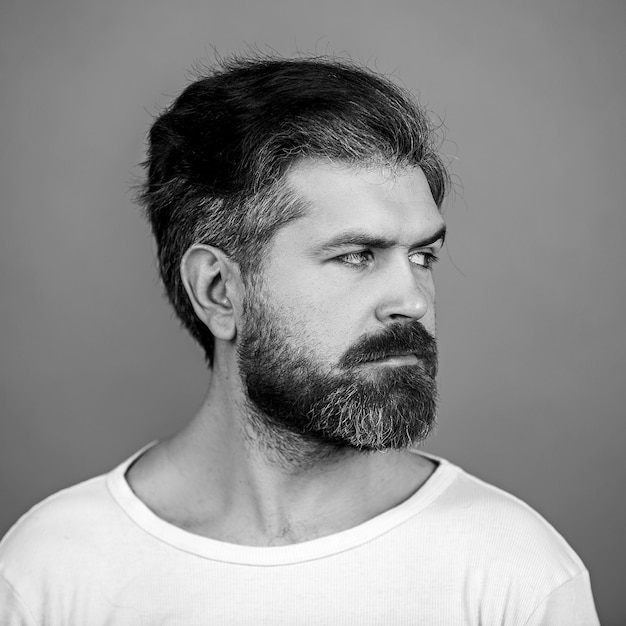young: (167, 74, 449, 441)
